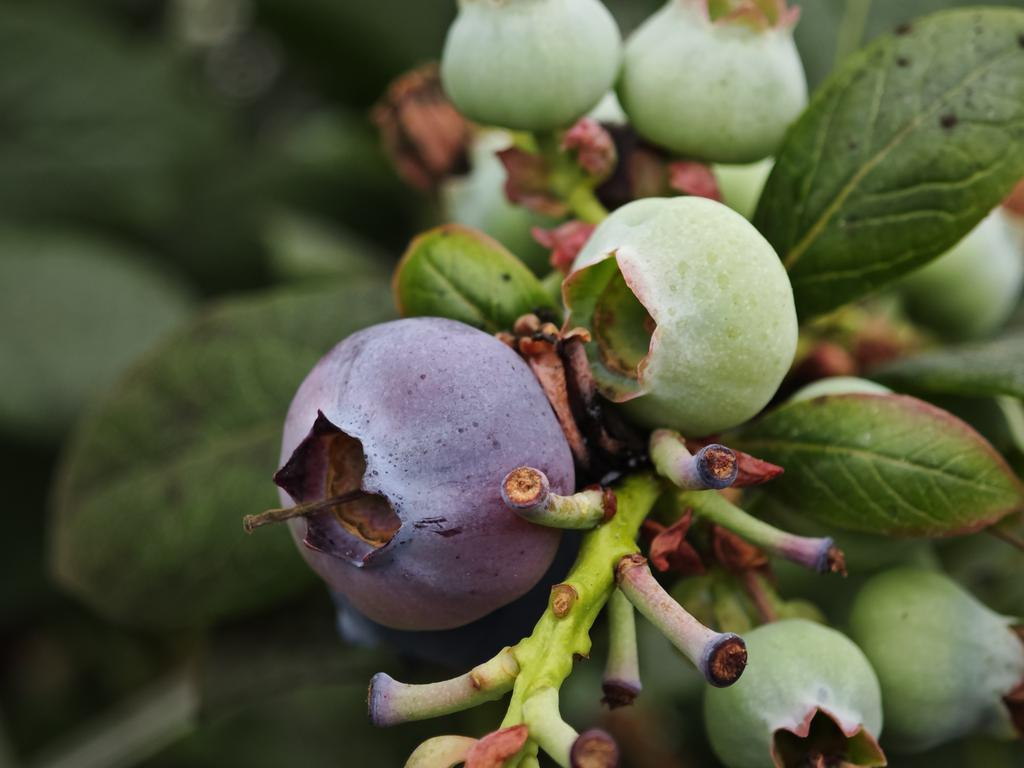Semi-RipeBlueBerry: (274, 320, 567, 630)
UnripeBlueBerry: (572, 193, 796, 430)
